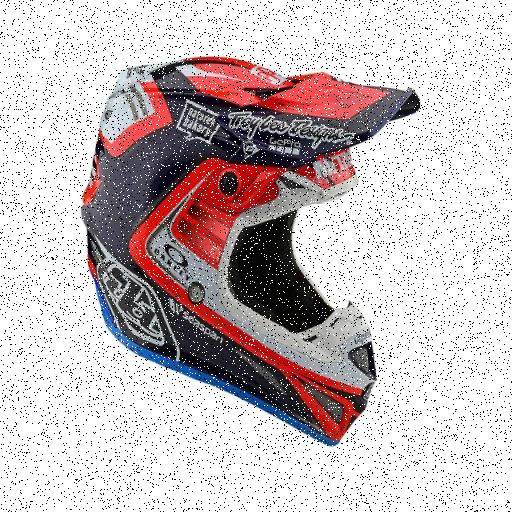Helmet: (78, 49, 432, 455)
